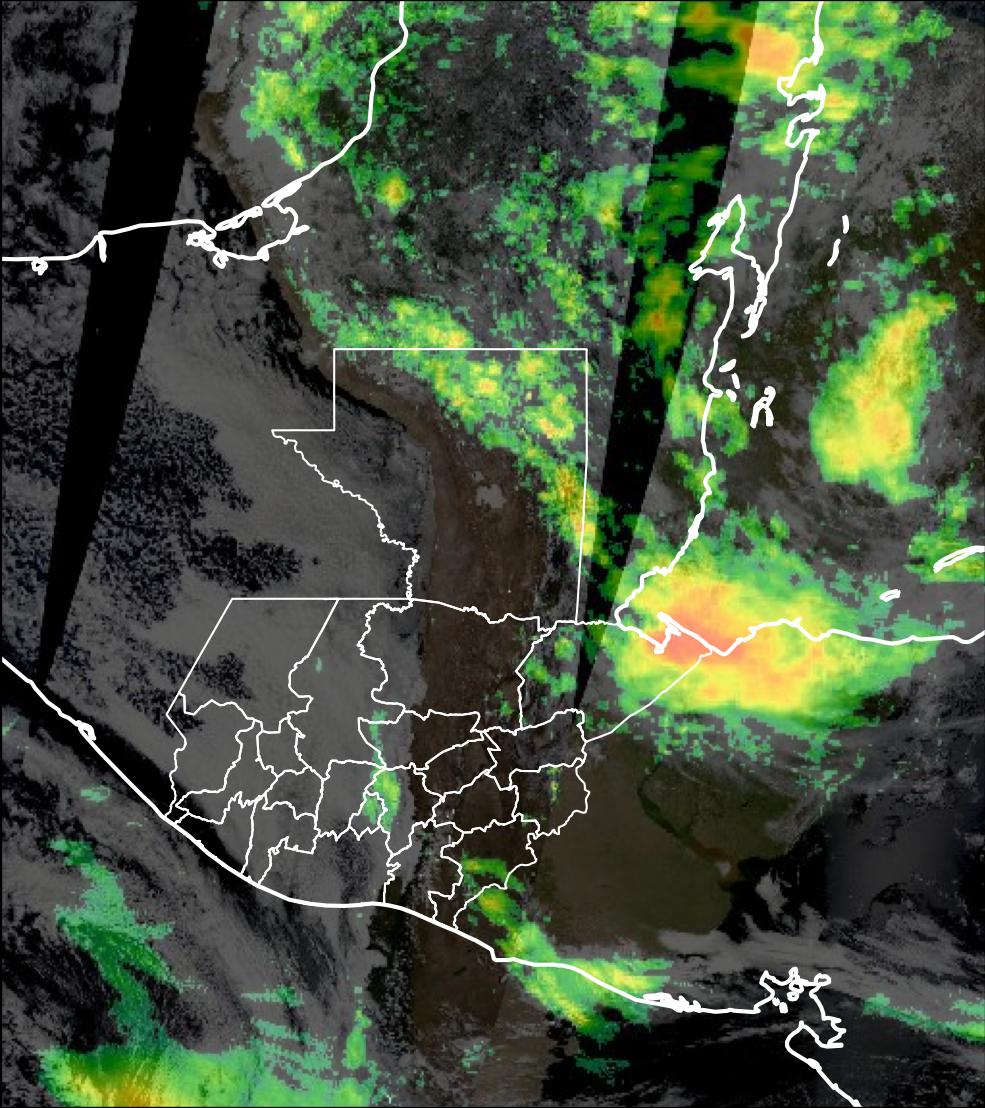precipitacion: (623, 572, 827, 713)
